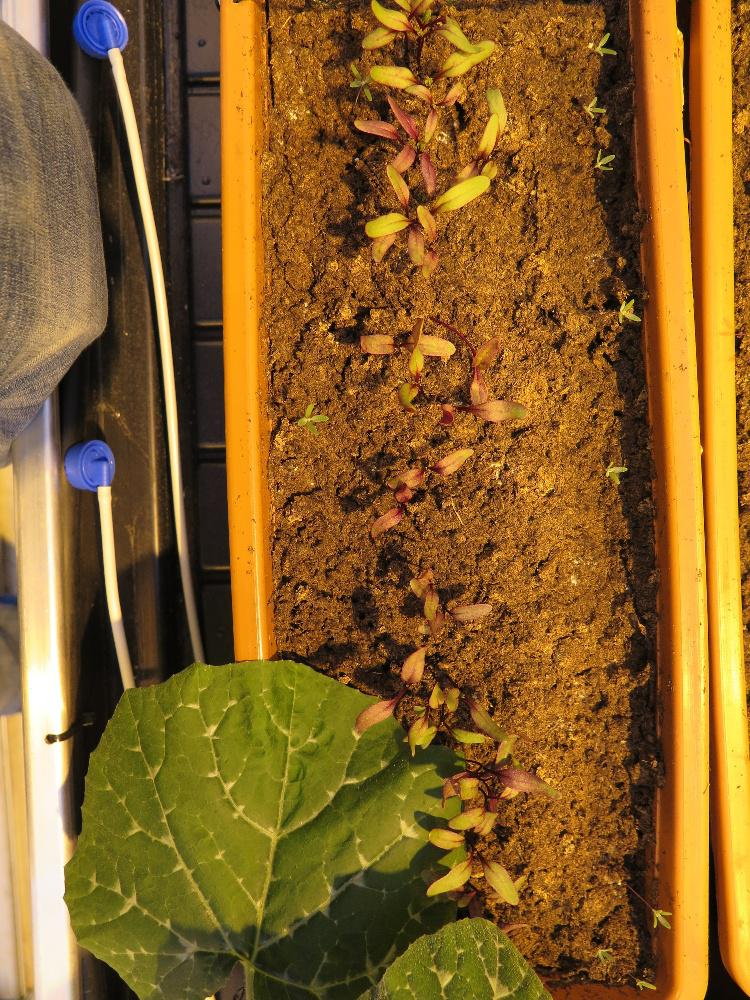weed: (293, 399, 329, 436), (592, 28, 619, 57), (615, 295, 641, 325), (602, 457, 626, 484), (581, 93, 605, 120), (593, 943, 617, 970), (650, 906, 673, 933), (593, 144, 614, 172)
